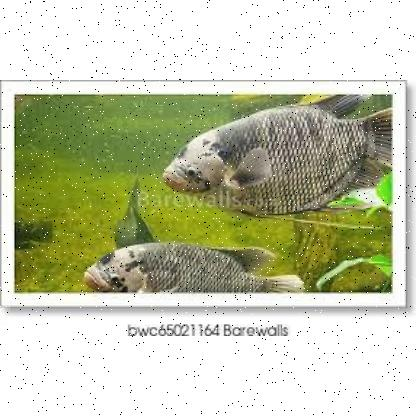gurame: (161, 96, 390, 218), (80, 242, 302, 290)
